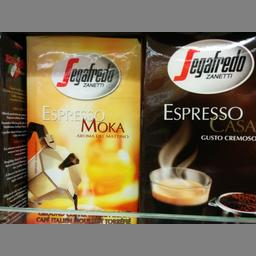coffee: (138, 32, 255, 223), (24, 33, 138, 223)
